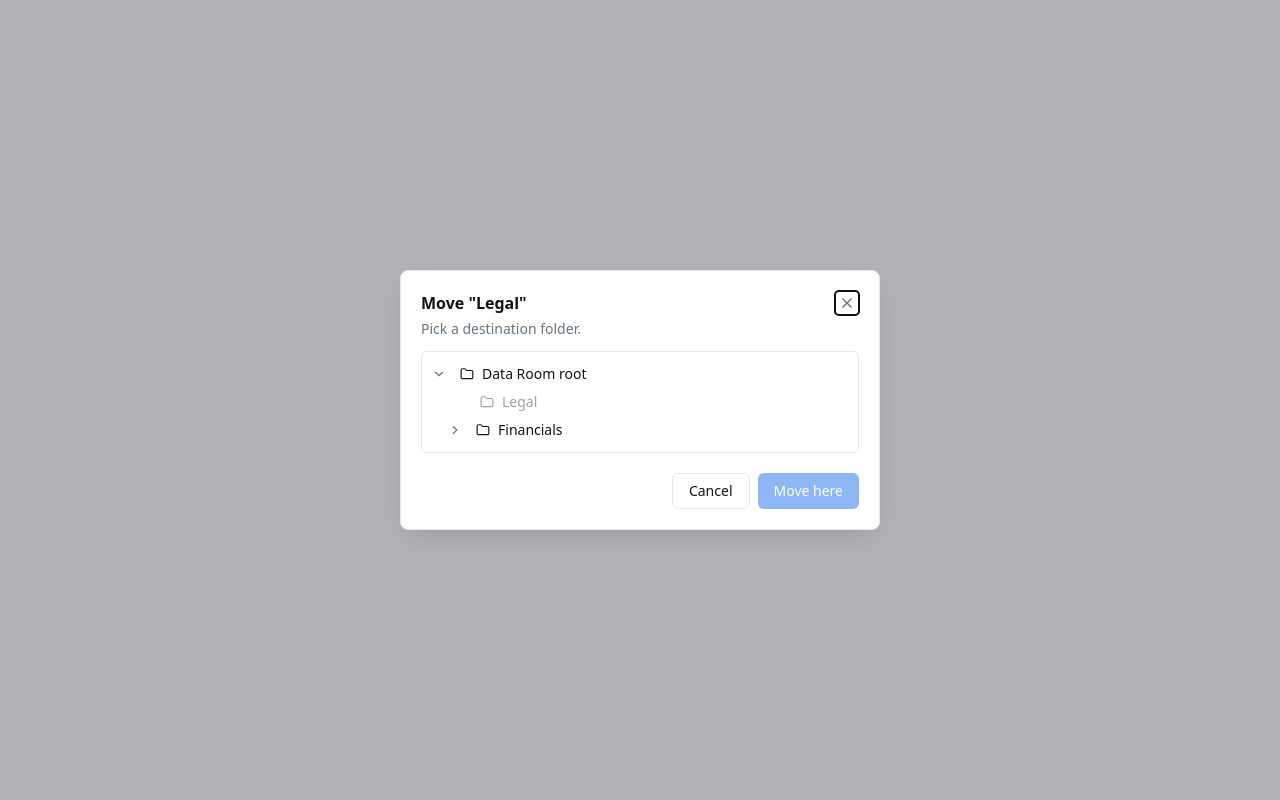
Test case: MoveDialog › shows the 409 name-conflict message instead of a raw code
Click the button "Financials" at (530,430), box [468,416,850,444]
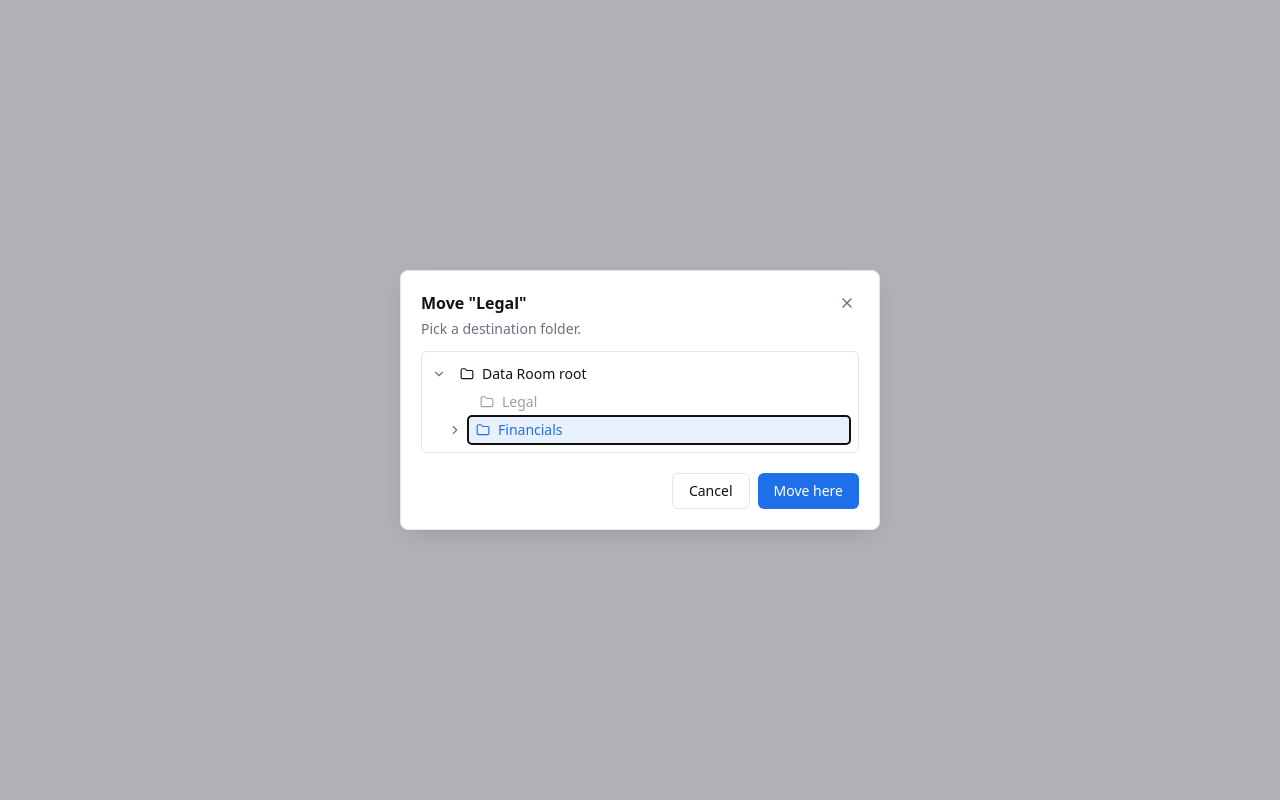
Click the button "Move here" at (808,491), box [758,473,859,509]
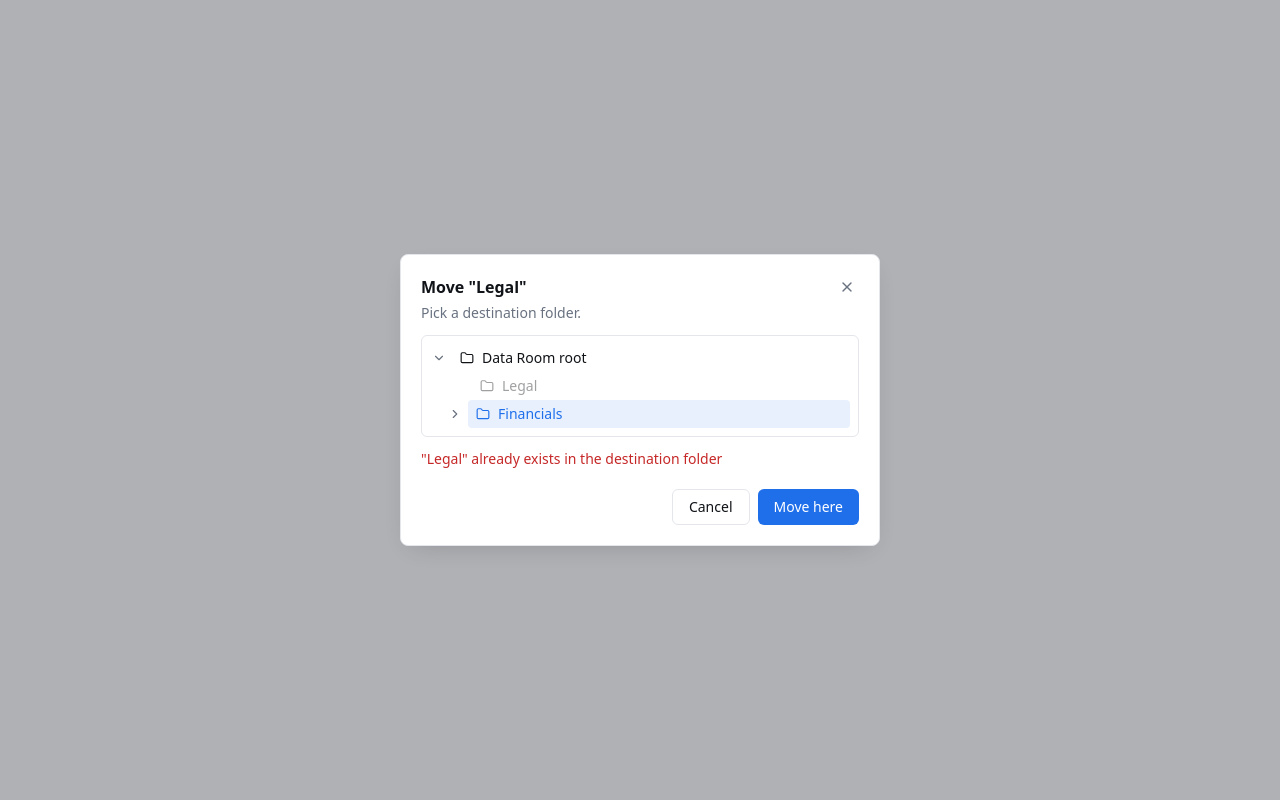
expect the message shows "already exists": met, box [421,449,722,468]
